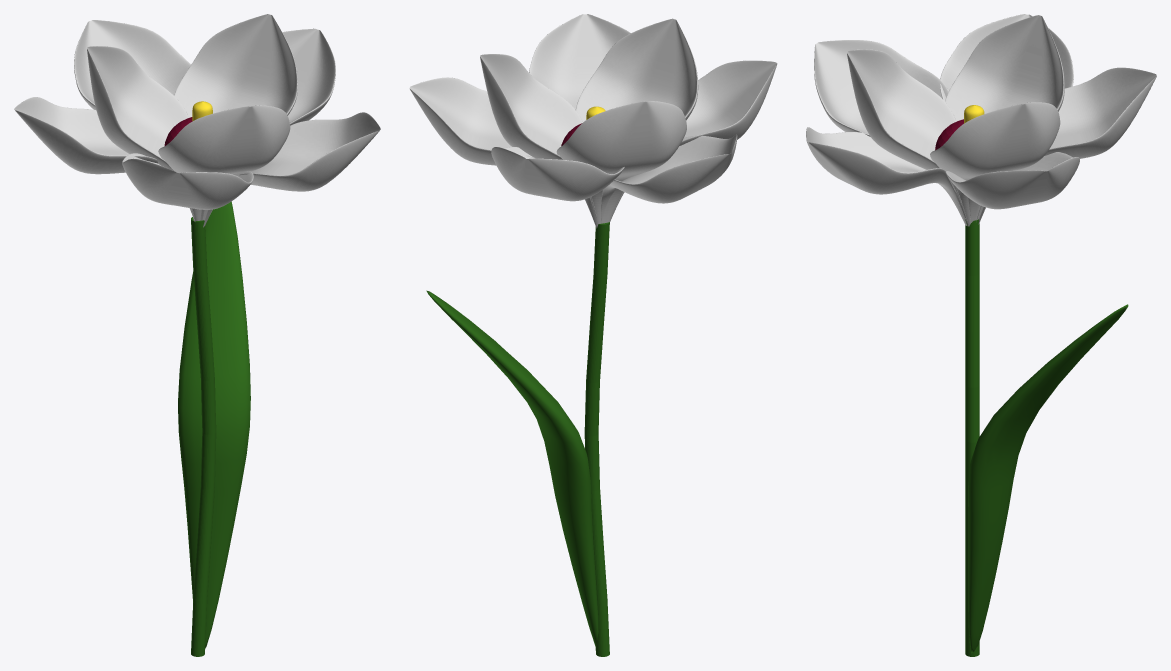
3 renders of one model, left to right at view 1: azimuth 30°, elevation 25°; view 2: azimuth 150°, elevation 25°; view 3: azimuth 270°, elevation 25°, orthographic.
Visible parts, largest first — view 1: f09; view 2: f09; view 3: f09.
Part boxes in pixels (x1,y1,x2,y2): f09: (14,14,380,656); f09: (409,14,777,656); f09: (806,14,1156,656).
Size of the model in its own units: 0.4768 by 0.87 by 0.4603.
